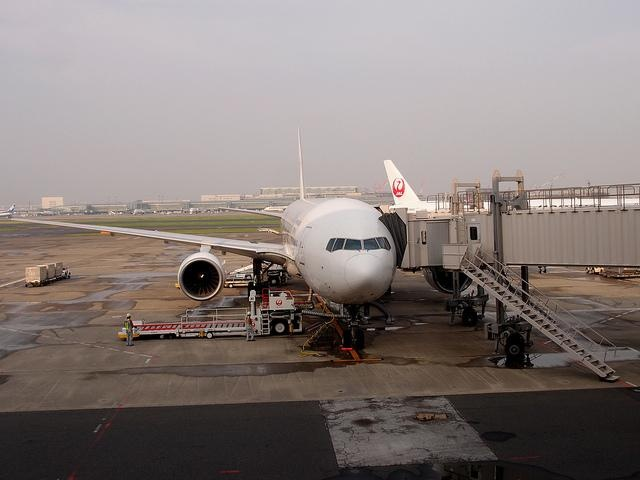airplane: (9, 120, 407, 367)
